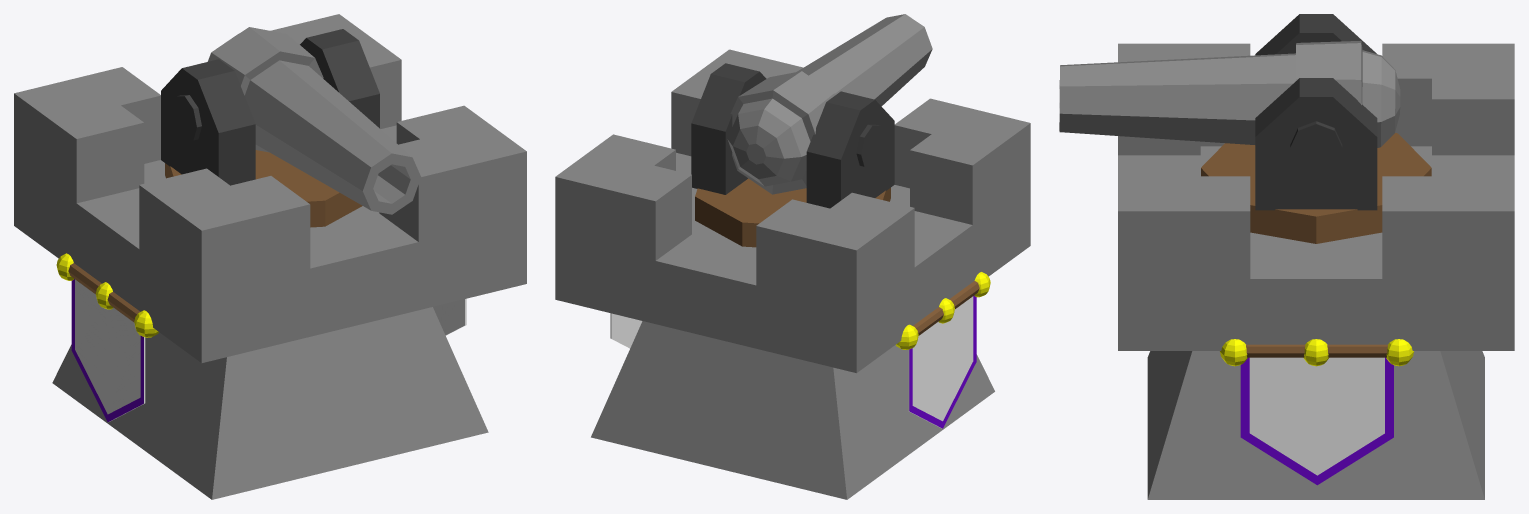
Rendered from Kanone.fbx.
3 renders of one model, left to right at view 1: azimuth 30°, elevation 25°; view 2: azimuth 150°, elevation 25°; view 3: azimuth 270°, elevation 25°, orthographic. The views are drawn at different scales.
Visible parts, largest first — view 1: Burg, Cylinder.001, Plane, Plane.002, Kanone, Cylinder.005, Cylinder.003, Plane.001; view 2: Burg, Cylinder.001, Plane, Plane.002, Kanone, Cylinder.005, Plane.001, Cylinder.003; view 3: Burg, Cylinder.001, Plane, Plane.001, Kanone, Cylinder.002, Sphere.001, Sphere, Sphere.002.
Boxes of the visible parts, x1,y1,x2,y2 form: Burg: (14,14,526,499); Cylinder.001: (207,27,420,214); Plane: (161,29,379,185); Plane.002: (71,279,145,422); Kanone: (165,150,362,227); Cylinder.005: (172,95,201,140); Cylinder.003: (68,263,140,322); Plane.001: (433,298,466,335); Burg: (555,49,1030,499); Cylinder.001: (727,14,932,194); Plane: (691,63,894,208); Plane.002: (908,295,976,428); Kanone: (695,178,890,247); Cylinder.005: (856,124,883,166); Plane.001: (610,313,642,348); Cylinder.003: (913,281,979,335); Burg: (1118,43,1514,499); Cylinder.001: (1059,41,1400,147); Plane: (1255,14,1377,210); Plane.001: (1240,357,1393,485); Kanone: (1201,133,1431,243); Cylinder.002: (1246,344,1387,357); Sphere.001: (1386,339,1413,366); Sphere: (1220,339,1247,366); Sphere.002: (1303,339,1328,366).
Bounding box in the file's own units: 250 × 252 × 270.
